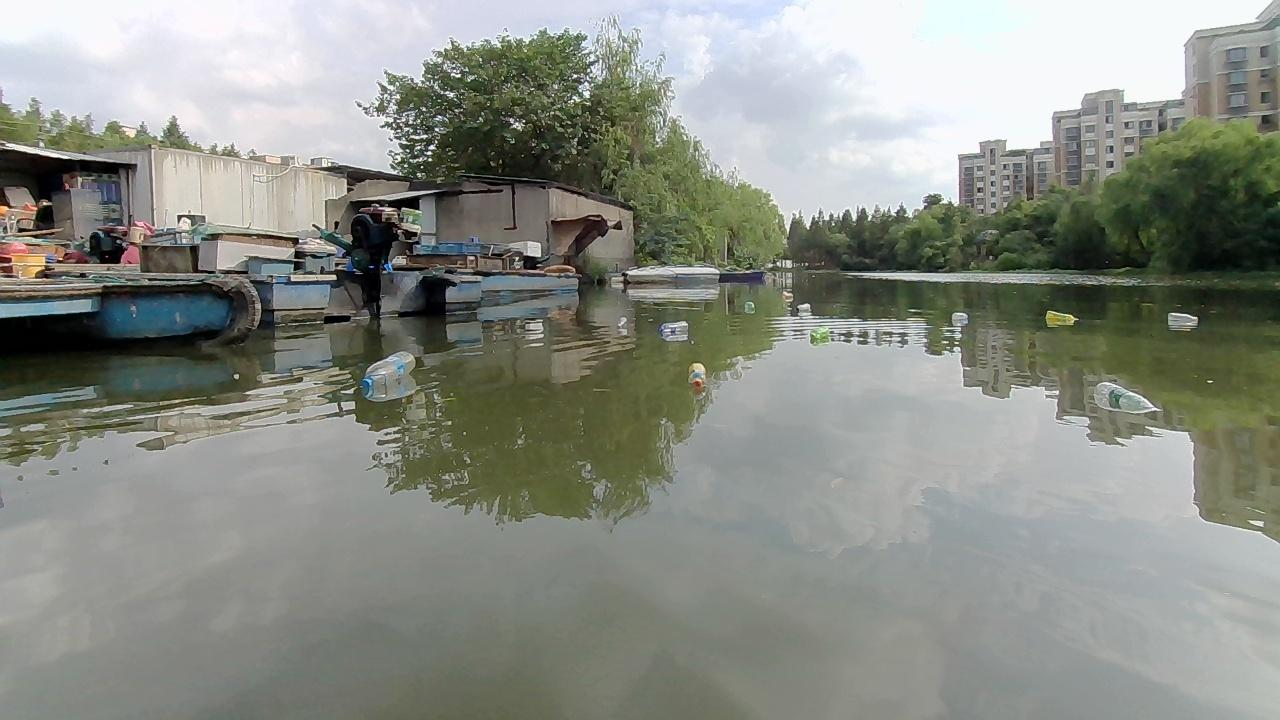bottle: (356, 348, 419, 394), (1096, 379, 1158, 421), (1046, 307, 1086, 329), (656, 319, 694, 338), (1163, 309, 1200, 327), (690, 358, 708, 387), (950, 309, 970, 330), (795, 298, 813, 314), (811, 323, 826, 342), (614, 313, 628, 332), (743, 298, 756, 314), (779, 289, 796, 300)
